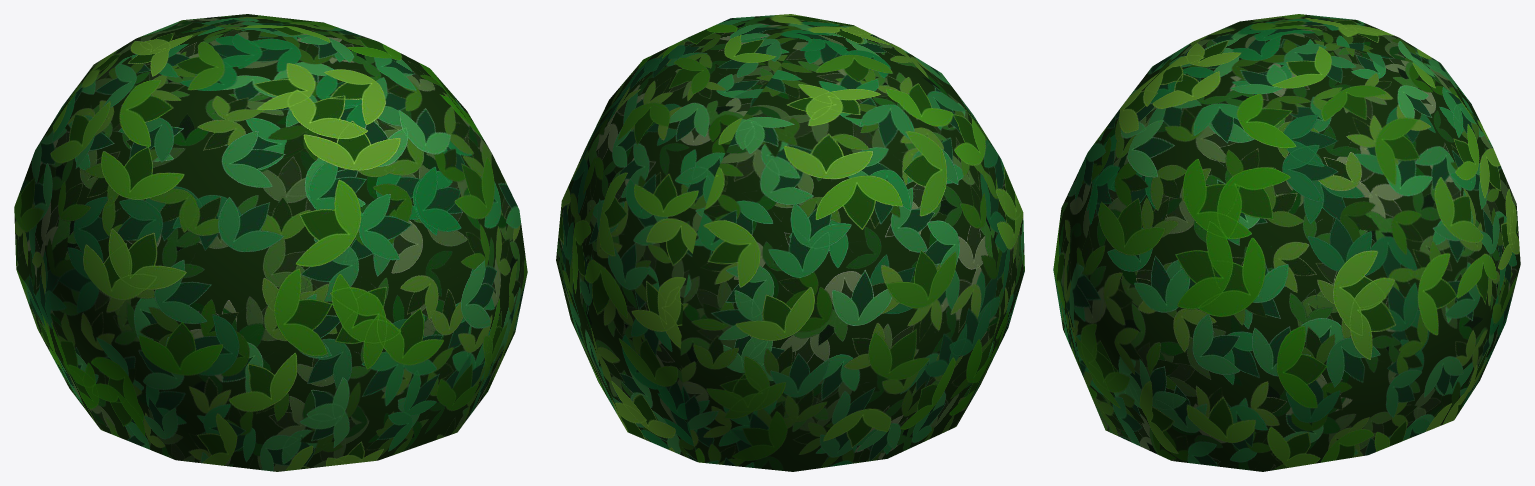
Rendered from Bush_.fbx.
3 views of the same model, side by side, from view 1: azimuth 30°, elevation 25°; view 2: azimuth 150°, elevation 25°; view 3: azimuth 270°, elevation 25° (orthographic). The views are drawn at different scales.
Parts seen in each view (by area): view 1: bush; view 2: bush; view 3: bush.
Boxes of the visible parts, <box> form: bush: <box>14,14,527,471</box>; bush: <box>556,14,1024,471</box>; bush: <box>1053,14,1520,471</box>.
Size of the model in its own units: 1.86 by 1.48 by 1.82.
